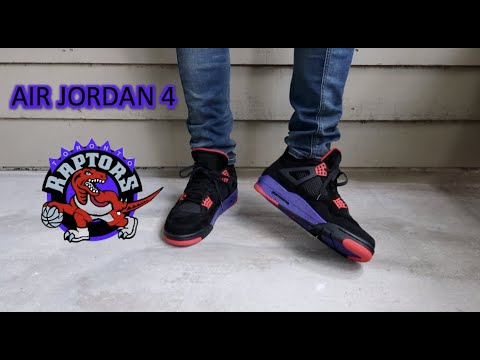Air Jordan 4 Raptors: (251, 131, 381, 267), (161, 137, 240, 249)
